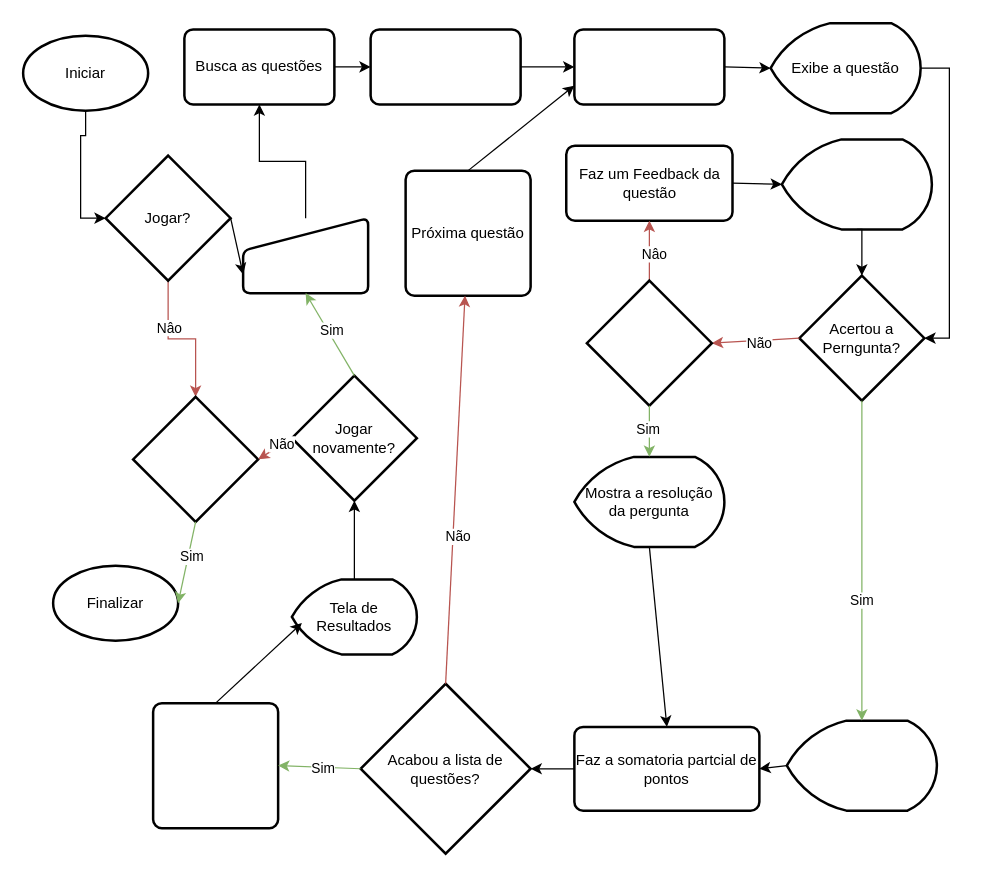
The diagram is 981 pixels wide and 876 high, and some of its shapes have lost their labels. The centre of each missing label's shape, as x and y in pixels:
"Carrega o motor da pergunta" belongs at (648,66).
"Embaralha a ordem das questões" belongs at (445,66).
"Errou mais de três vezes?" belongs at (648,342).
"Exibe uma dica (feedback)" belongs at (856,184).
"Lista de questões QuestionBaseModel" belongs at (305,255).
"Processa um feedback geral com base na pontuação" belongs at (215,765).
"Sair do jogo?" belongs at (195,458).
